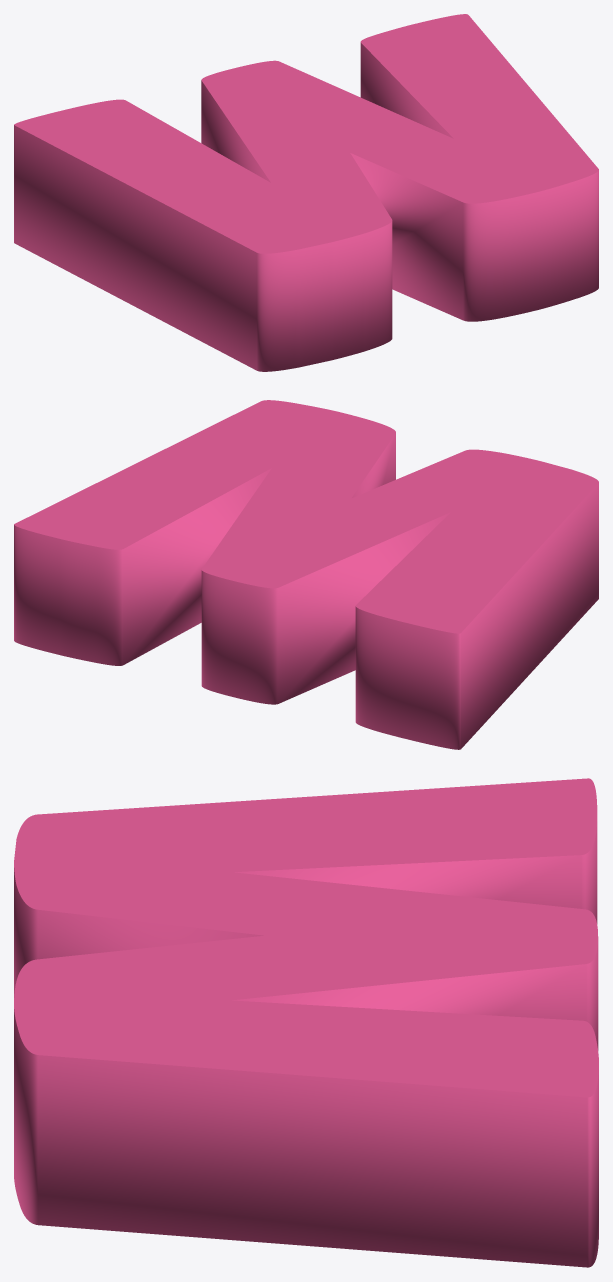
3 views of the same model, one above another, from view 1: azimuth 30°, elevation 25°; view 2: azimuth 150°, elevation 25°; view 3: azimuth 270°, elevation 25° (orthographic). The views are drawn at different scales.
Visible parts, largest first — view 1: w; view 2: w; view 3: w.
Part boxes in pixels (x1,y1,x2,y2): w: (14,14,598,371); w: (14,400,598,749); w: (14,778,598,1267).
Bounding box in the file's own units: 0.349 × 0.0868 × 0.2704.
